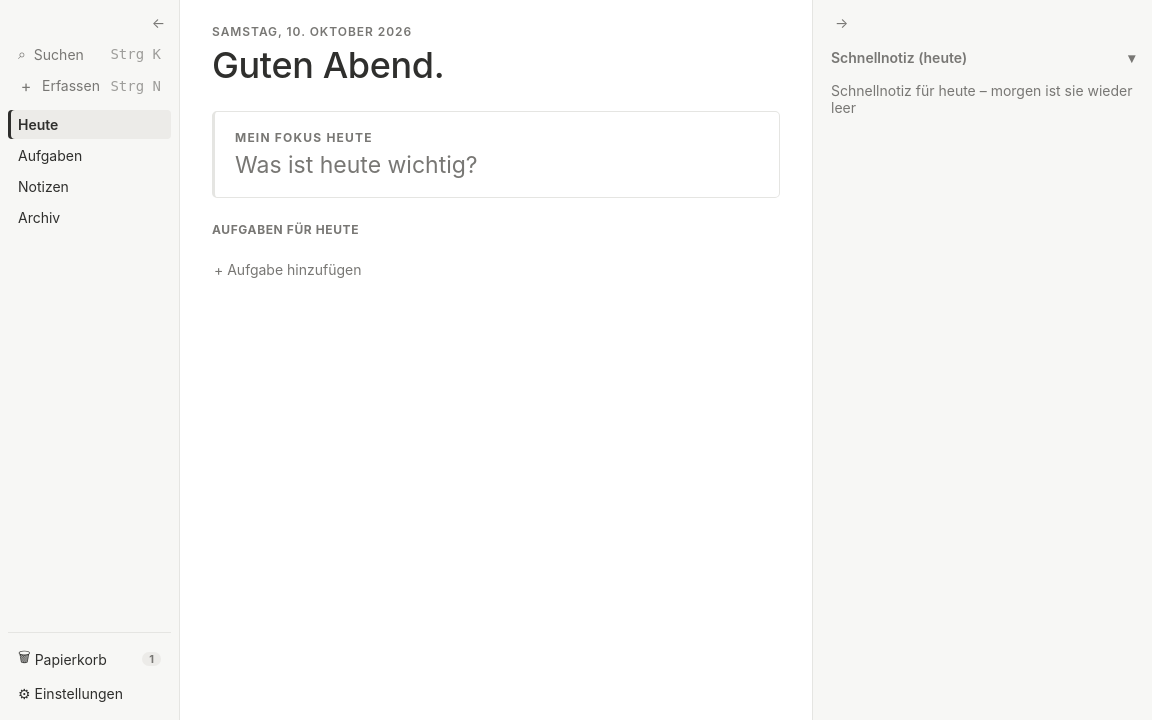
Test: Papierkorb in der Navigation › zeigt die Anzahl, öffnet den Papierkorb und aktualisiert sich nach dem Wiederherstellen
Click the button "🗑︎ Papierkorb 1" at (90, 659), box [8,641,171,677]
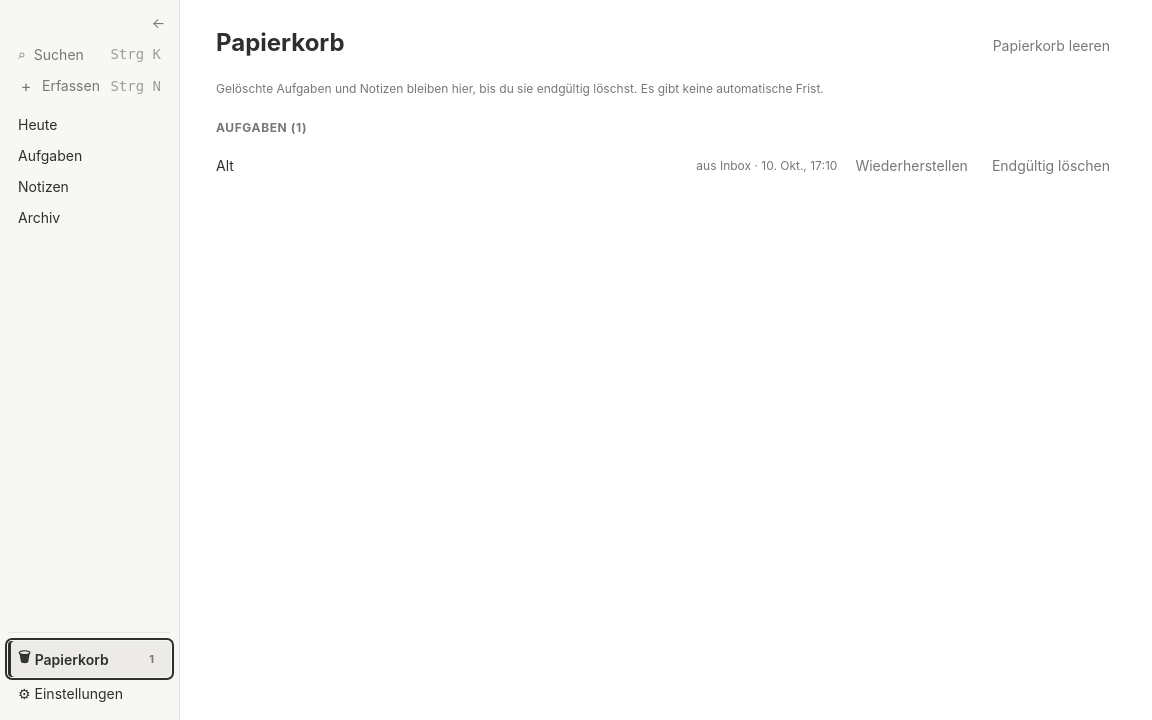
Expected: the element "Papierkorb" is shown, [216,28,1116,176]
Click the button with aria-label "Alt wiederherstellen" at (912, 165), box [849,154,974,176]
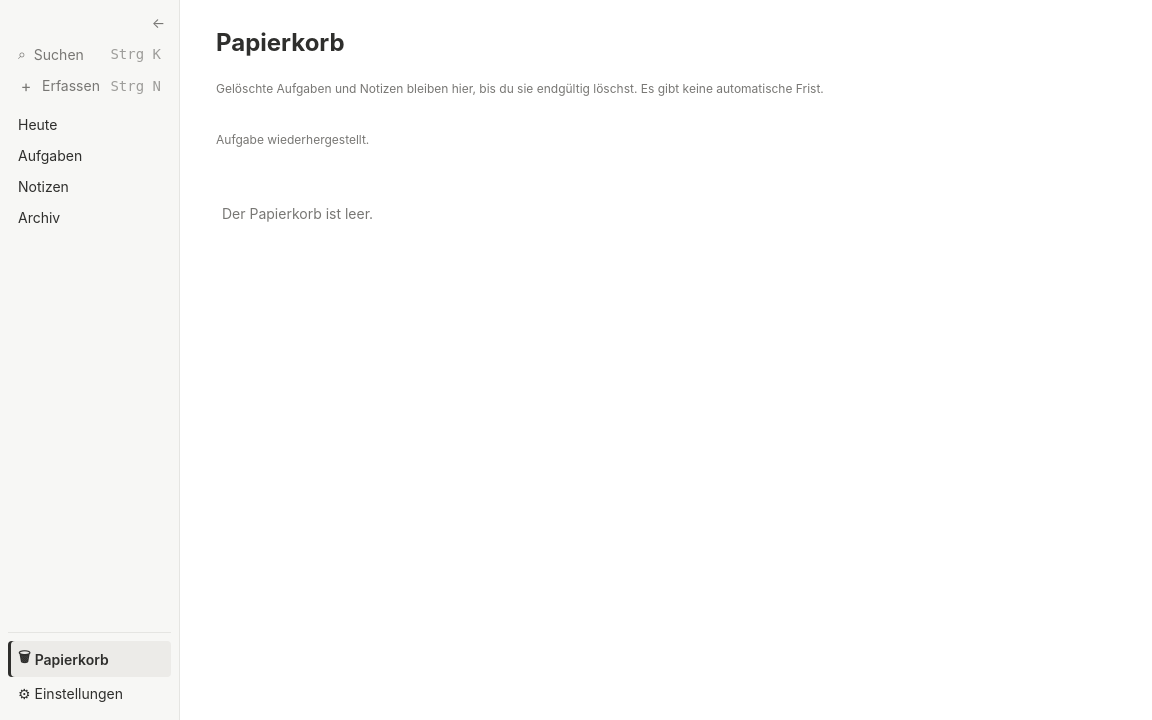
Expected: the button "🗑︎ Papierkorb" is shown, [8,641,171,677]
Expected: the button "Papierkorb 1" is gone
